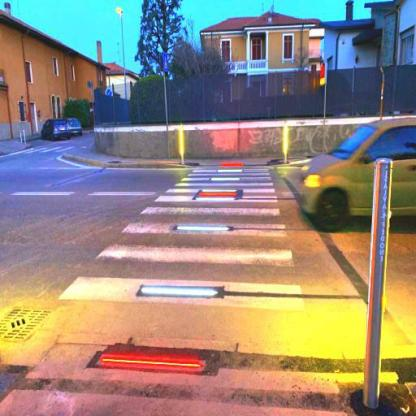crosswalk: (54, 241, 321, 313), (138, 193, 288, 218), (171, 174, 278, 188)
